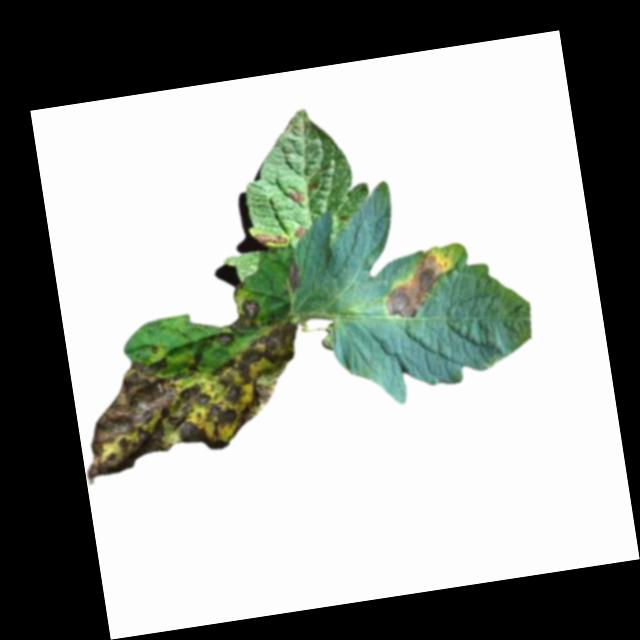Early_blight: (72, 322, 317, 484), (373, 246, 455, 324), (213, 295, 263, 335), (250, 229, 288, 247), (282, 261, 304, 291), (285, 184, 307, 205), (292, 226, 308, 239)
